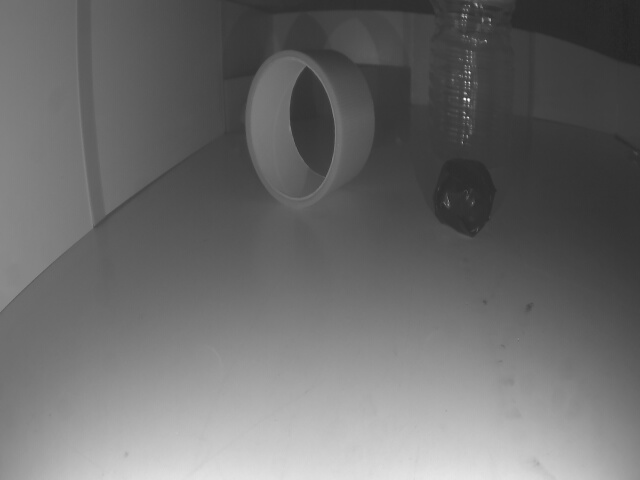Dead: (437, 158, 492, 237)
Point: (226, 65, 410, 133)
